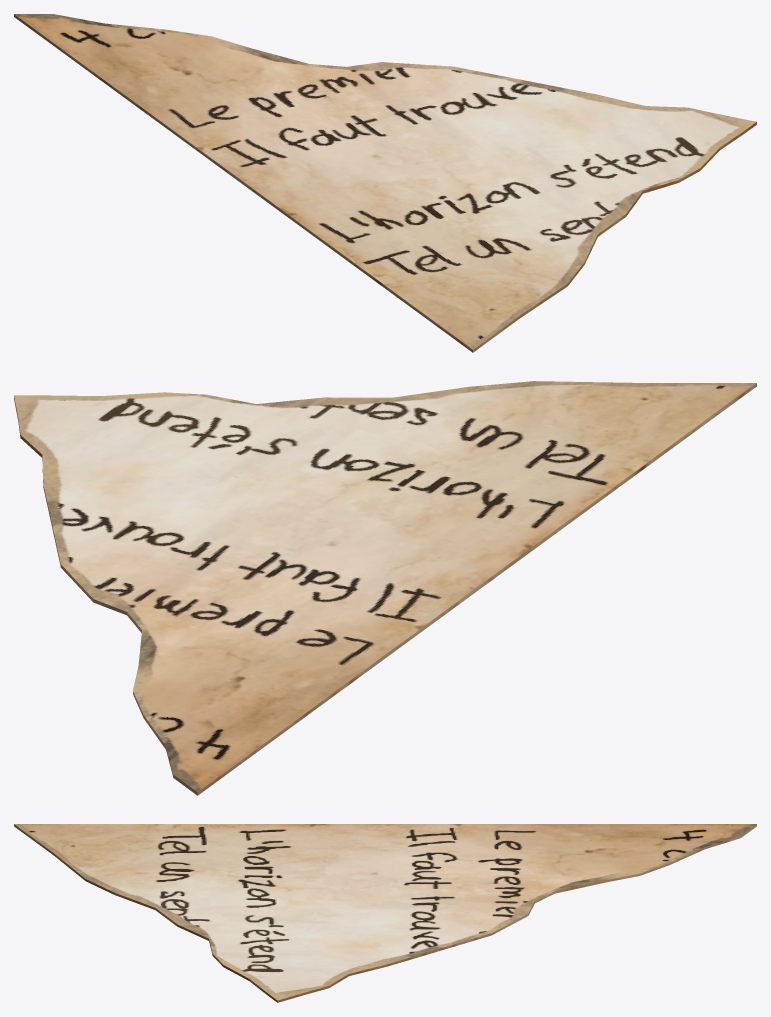
The model's file is Poeme1.fbx.
The picture shows the model from 3 angles, top to bottom: view 1: azimuth 30°, elevation 25°; view 2: azimuth 150°, elevation 25°; view 3: azimuth 270°, elevation 25°; orthographic projection. The views are drawn at different scales.
Parts seen in each view (by area): view 1: Poeme1; view 2: Poeme1; view 3: Poeme1.
Part boxes in pixels (<box>): Poeme1: <box>14,14,756,352</box>; Poeme1: <box>14,381,756,795</box>; Poeme1: <box>14,824,756,1002</box>.
Bounding box in the file's own units: 7.01 × 0.0429 × 12.47.
